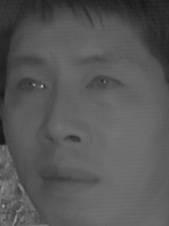eye: (84, 73, 124, 96), (14, 76, 48, 98)
mouth: (35, 159, 103, 196)
